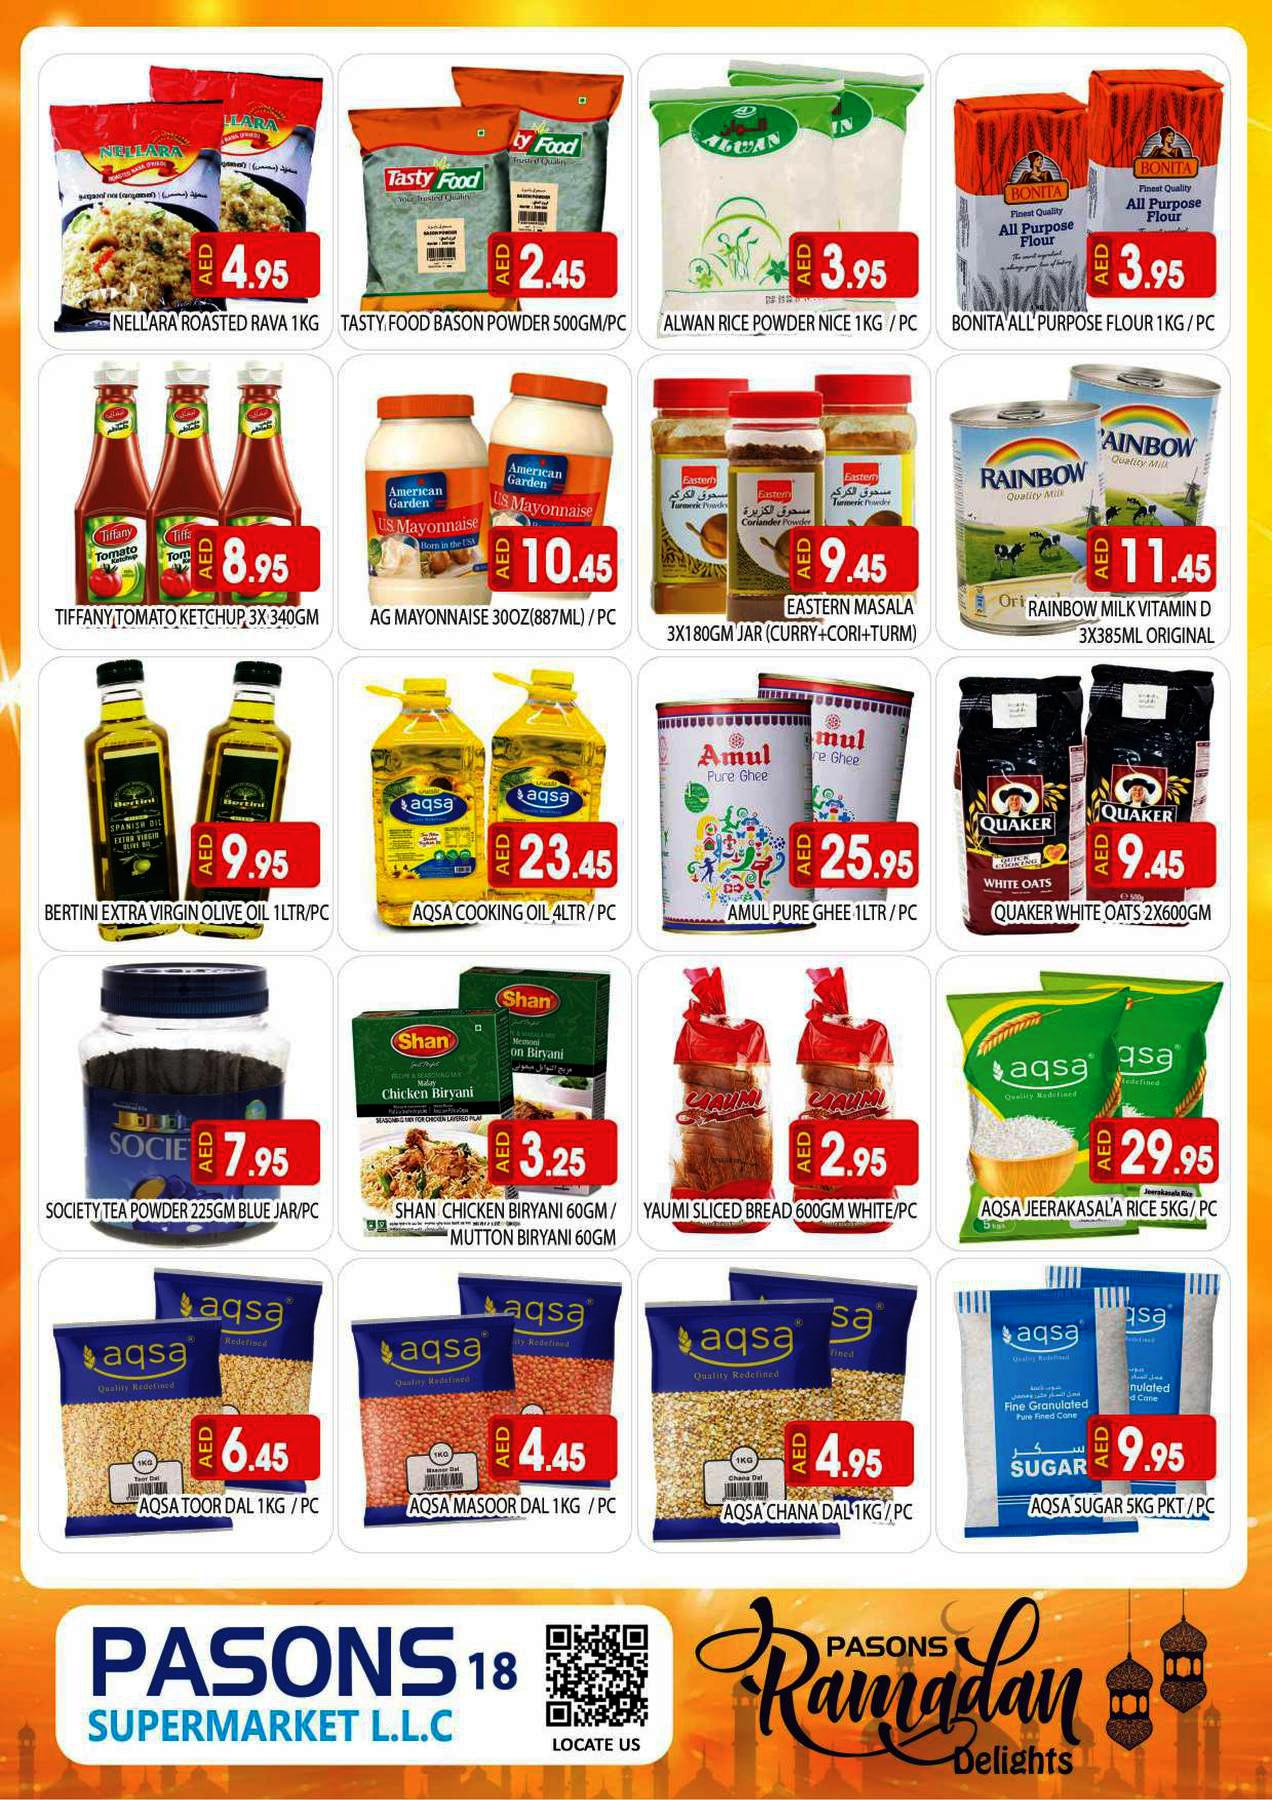text: (658, 588, 928, 650), (390, 1199, 624, 1248), (1023, 594, 1222, 651), (337, 307, 633, 340), (43, 896, 335, 929), (976, 1190, 1224, 1228), (365, 601, 622, 636), (50, 604, 329, 636), (637, 1196, 922, 1225), (944, 310, 1225, 339), (657, 310, 922, 340), (43, 1197, 326, 1223), (401, 1490, 624, 1523), (105, 307, 326, 340), (988, 897, 1217, 929), (1024, 1488, 1222, 1522), (407, 897, 622, 929), (134, 1490, 326, 1522), (714, 1499, 920, 1528), (724, 900, 922, 925)
